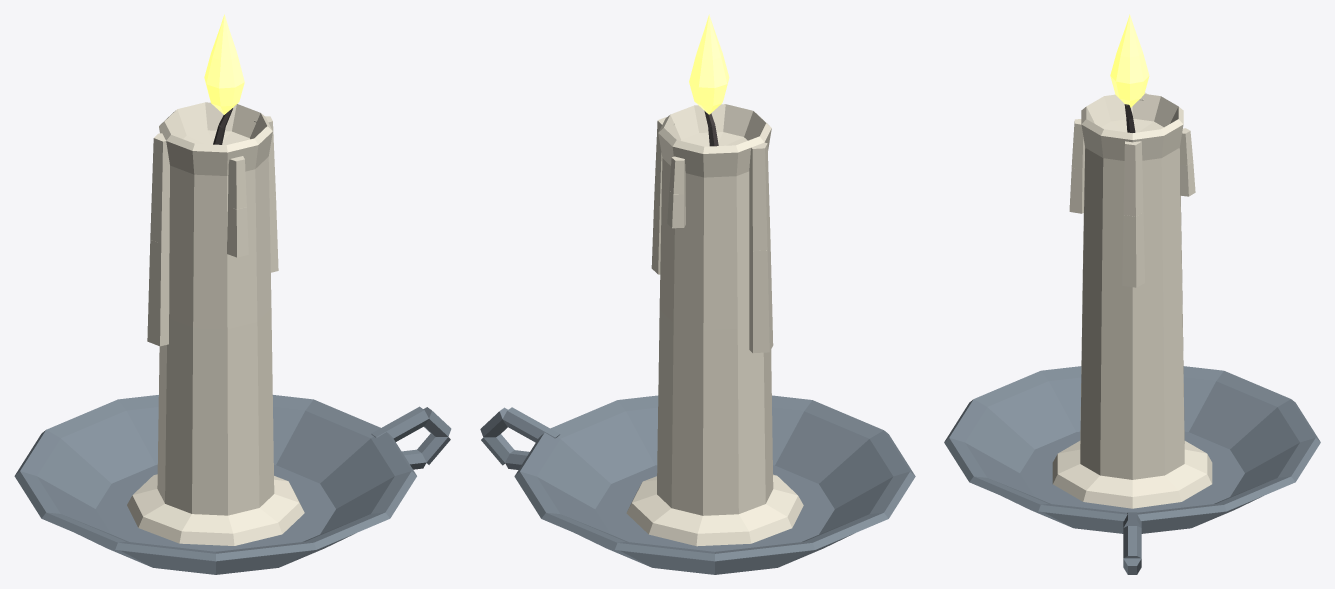
The model's file is svicka.glb.
The picture shows the model from 3 angles, left to right: view 1: azimuth 30°, elevation 25°; view 2: azimuth 150°, elevation 25°; view 3: azimuth 270°, elevation 25°; orthographic projection. The views are drawn at different scales.
Parts seen in each view (by area): view 1: Svice, Podsalek, Plaminek; view 2: Svice, Podsalek, Plaminek; view 3: Svice, Podsalek, Plaminek.
Boxes of the visible parts, left/top/right/bottom form: Svice: left=127, top=102, right=304, bottom=545; Podsalek: left=14, top=395, right=451, bottom=574; Plaminek: left=204, top=14, right=244, bottom=114; Svice: left=626, top=104, right=803, bottom=546; Podsalek: left=480, top=395, right=915, bottom=574; Plaminek: left=689, top=14, right=729, bottom=114; Svice: left=1052, top=92, right=1212, bottom=508; Podsalek: left=944, top=366, right=1320, bottom=574; Plaminek: left=1110, top=14, right=1149, bottom=107.
Bounding box in the file's own units: 0.1683 × 0.2 × 0.144.
